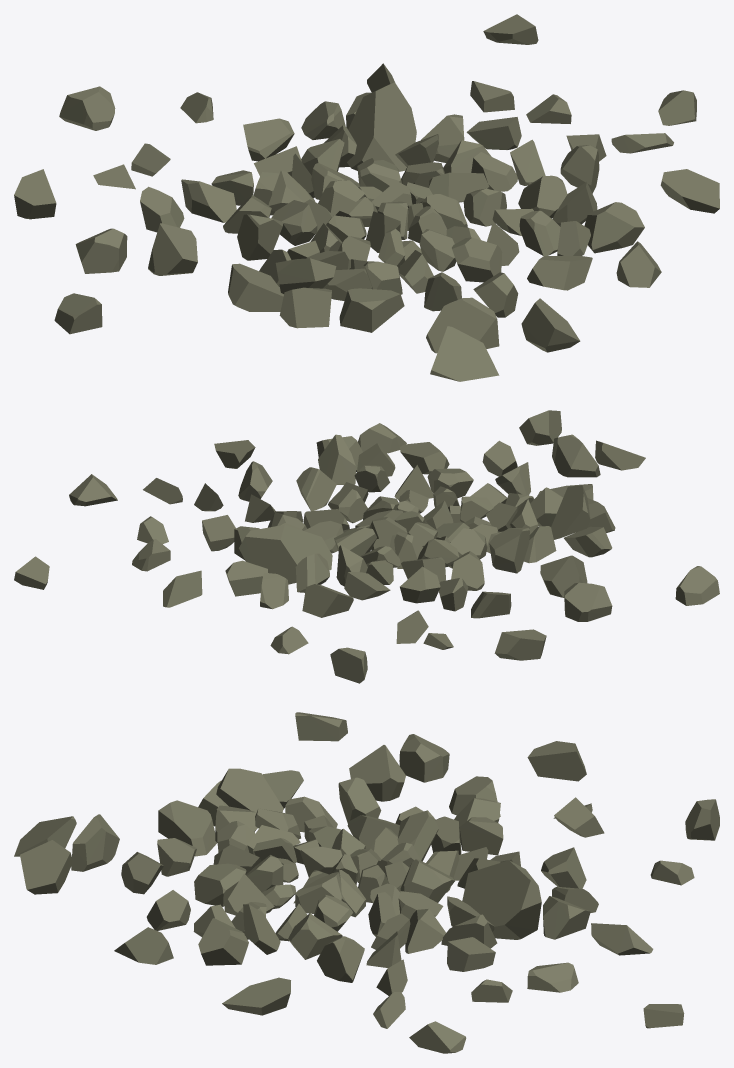
File: collectable.glb
The picture shows the model from 3 angles, top to bottom: view 1: azimuth 30°, elevation 25°; view 2: azimuth 150°, elevation 25°; view 3: azimuth 270°, elevation 25°; orthographic projection. The views are drawn at different scales.
Visible parts, largest first — view 1: Cube_cell.018; view 2: Cube_cell.018; view 3: Cube_cell.018.
Part boxes in pixels (x1,y1,x2,y2): Cube_cell.018: [14, 14, 719, 381]; Cube_cell.018: [14, 410, 719, 683]; Cube_cell.018: [14, 712, 719, 1053].
Bounding box in the file's own units: 1582 × 162 × 1432.
